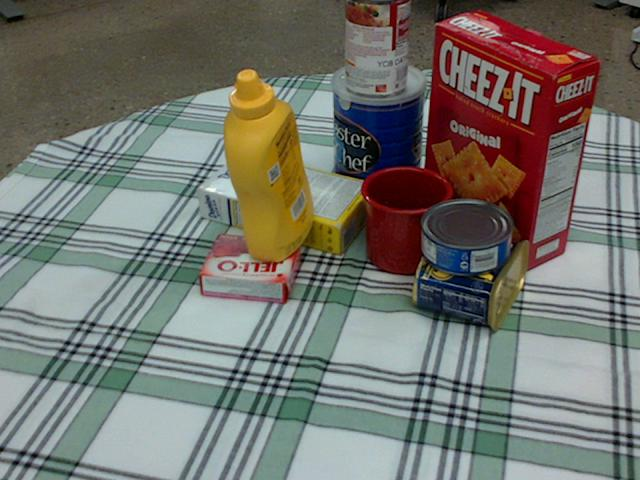cracker_box: (421, 10, 602, 267)
gelatin_box: (199, 235, 303, 304)
master_chef_can: (331, 60, 426, 212)
mug: (361, 166, 454, 274)
mustard_bottle: (223, 69, 312, 262)
potted_meat_can: (413, 220, 531, 326)
sugar_box: (195, 149, 375, 254)
tomato_soup_can: (346, 0, 411, 96)
tuna_fish_can: (420, 199, 513, 274)
